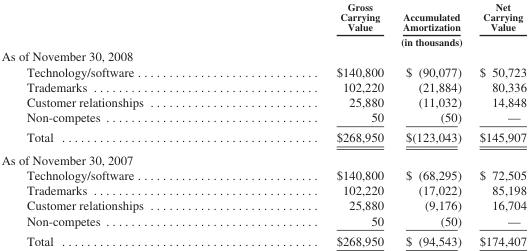table: (0, 0, 525, 247)
table column: (0, 0, 239, 247), (239, 0, 392, 247), (392, 0, 469, 247), (469, 0, 525, 247)
table column header: (0, 0, 525, 48)
table projected row header: (0, 148, 525, 167), (0, 48, 525, 63)
table row: (0, 0, 525, 34), (0, 126, 525, 148), (0, 148, 525, 167), (0, 212, 525, 230), (0, 109, 525, 126), (0, 230, 525, 247), (0, 78, 525, 94), (0, 48, 525, 63), (0, 63, 525, 78), (0, 94, 525, 109), (0, 167, 525, 182), (0, 182, 525, 197), (0, 197, 525, 212), (0, 34, 525, 48)
table spanning cell: (239, 34, 525, 48)
